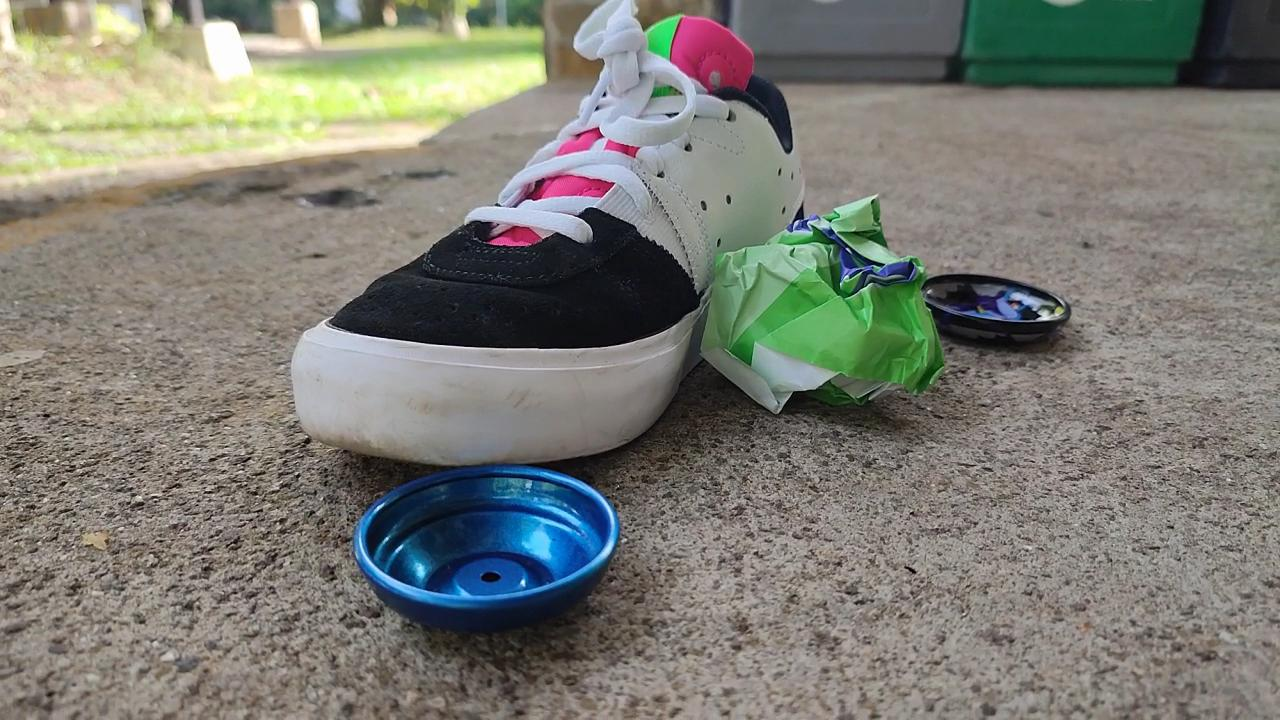Paper: (683, 182, 949, 426)
